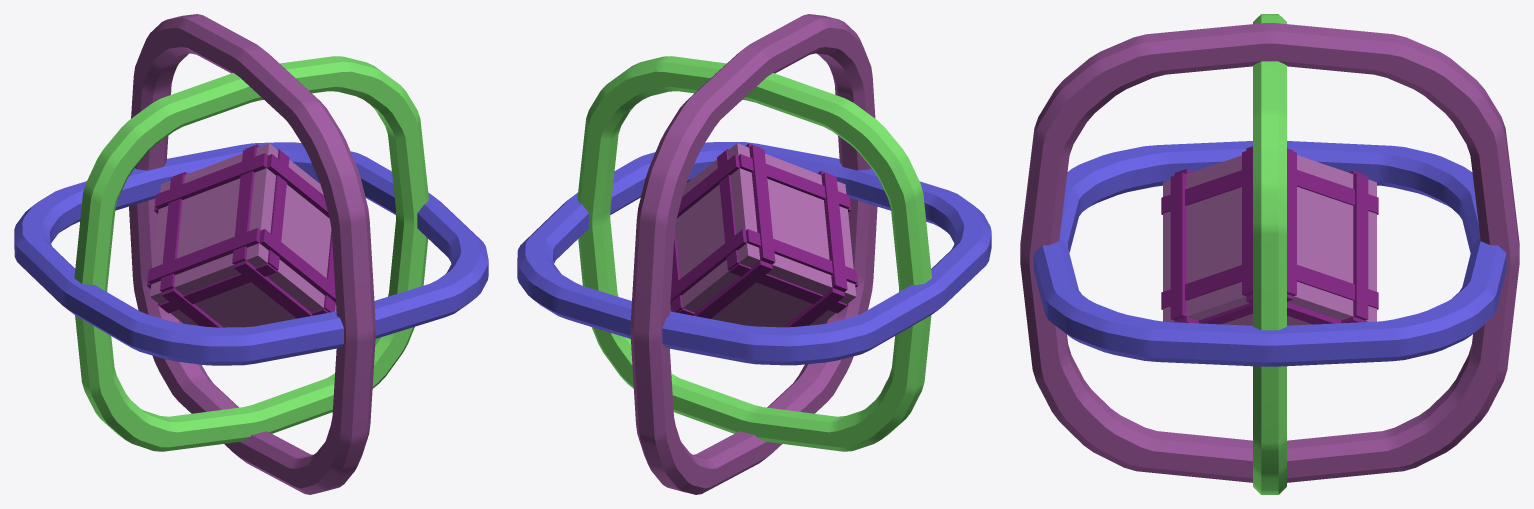
The model's file is Regular_Hook.fbx.
3 renders of one model, left to right at view 1: azimuth 30°, elevation 25°; view 2: azimuth 150°, elevation 25°; view 3: azimuth 270°, elevation 25°, orthographic. The views are drawn at different scales.
Parts seen in each view (by area): view 1: polySurface1, polySurface2, pCube16, polySurface3; view 2: polySurface1, polySurface2, pCube16, polySurface3; view 3: polySurface1, polySurface3, pCube16, polySurface2.
Boxes of the visible parts, x1,y1,x2,y2 form: polySurface1: (129, 14, 375, 494); polySurface2: (74, 56, 428, 451); pCube16: (147, 143, 336, 327); polySurface3: (14, 142, 488, 365); polySurface1: (630, 14, 877, 494); polySurface2: (577, 56, 931, 451); pCube16: (670, 143, 858, 327); polySurface3: (517, 142, 991, 365); polySurface1: (1020, 23, 1519, 482); polySurface3: (1033, 141, 1506, 366); pCube16: (1161, 146, 1378, 325); polySurface2: (1253, 14, 1286, 494).
Size of the model in its own units: 1.57 by 1.65 by 1.65.
